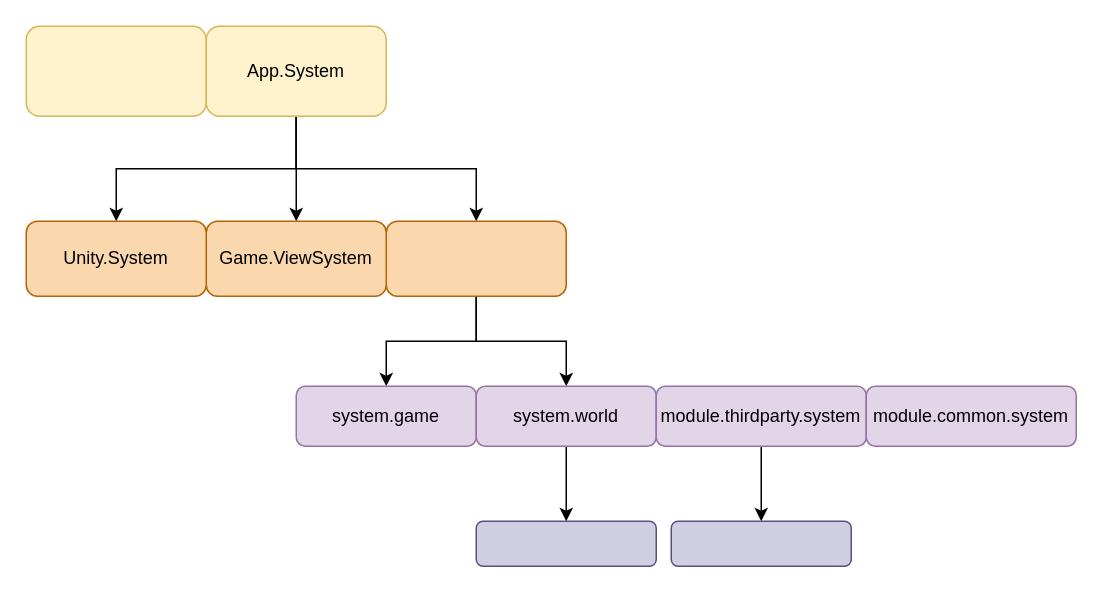
Image size: 1103x593. Some labels were removed from this diagram. Each missing label, with the centre of its shape:
App.Model: [115,70]
com.actor.system: [565,543]
com.move.system: [760,543]
Game.System: [475,258]
